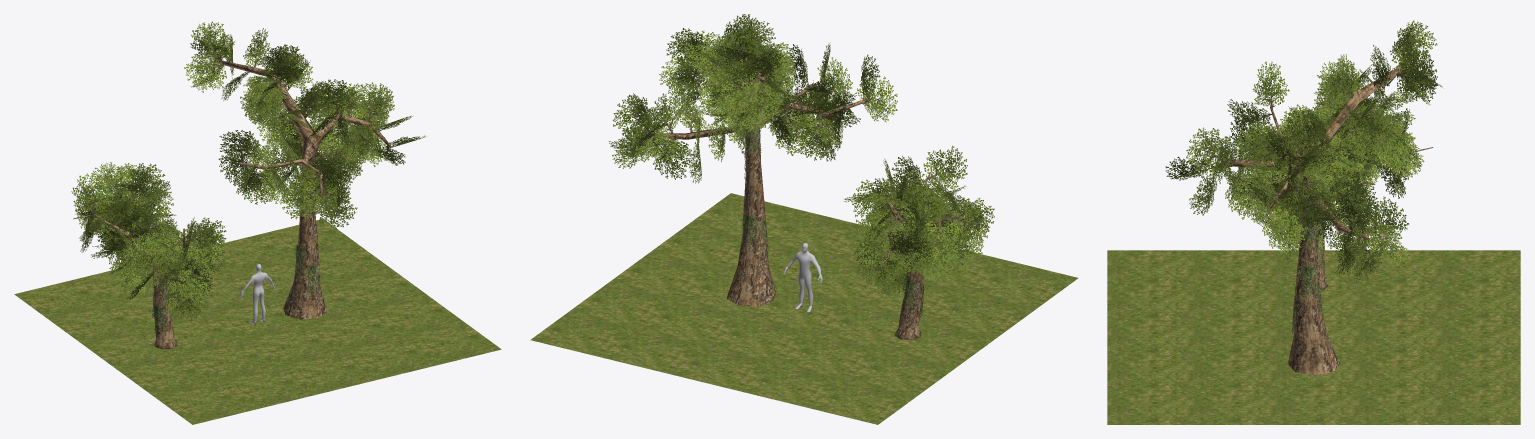
File: BFTREES.fbx
3 views of the same model, side by side, from view 1: azimuth 30°, elevation 25°; view 2: azimuth 150°, elevation 25°; view 3: azimuth 270°, elevation 25° (orthographic). The views are drawn at different scales.
Parts seen in each view (by area): view 1: Plane.001, Plane, Tree01, Base.001; view 2: Plane.001, Plane, Tree01, Base.001; view 3: Plane.001, Plane, Tree01.
Boxes of the visible parts, box(x1,y1,x2,y2) form: Plane.001: box(14, 219, 501, 424); Plane: box(184, 21, 425, 319); Tree01: box(71, 162, 227, 349); Base.001: box(239, 264, 274, 324); Plane.001: box(530, 193, 1078, 424); Plane: box(609, 14, 897, 306); Tree01: box(843, 145, 994, 339); Base.001: box(783, 243, 822, 312); Plane.001: box(1107, 250, 1520, 424); Plane: box(1165, 20, 1442, 375); Tree01: box(1230, 64, 1433, 290).
Bounding box in the file's own units: 1061 × 1000 × 858.
5 materials, 4 textured.
